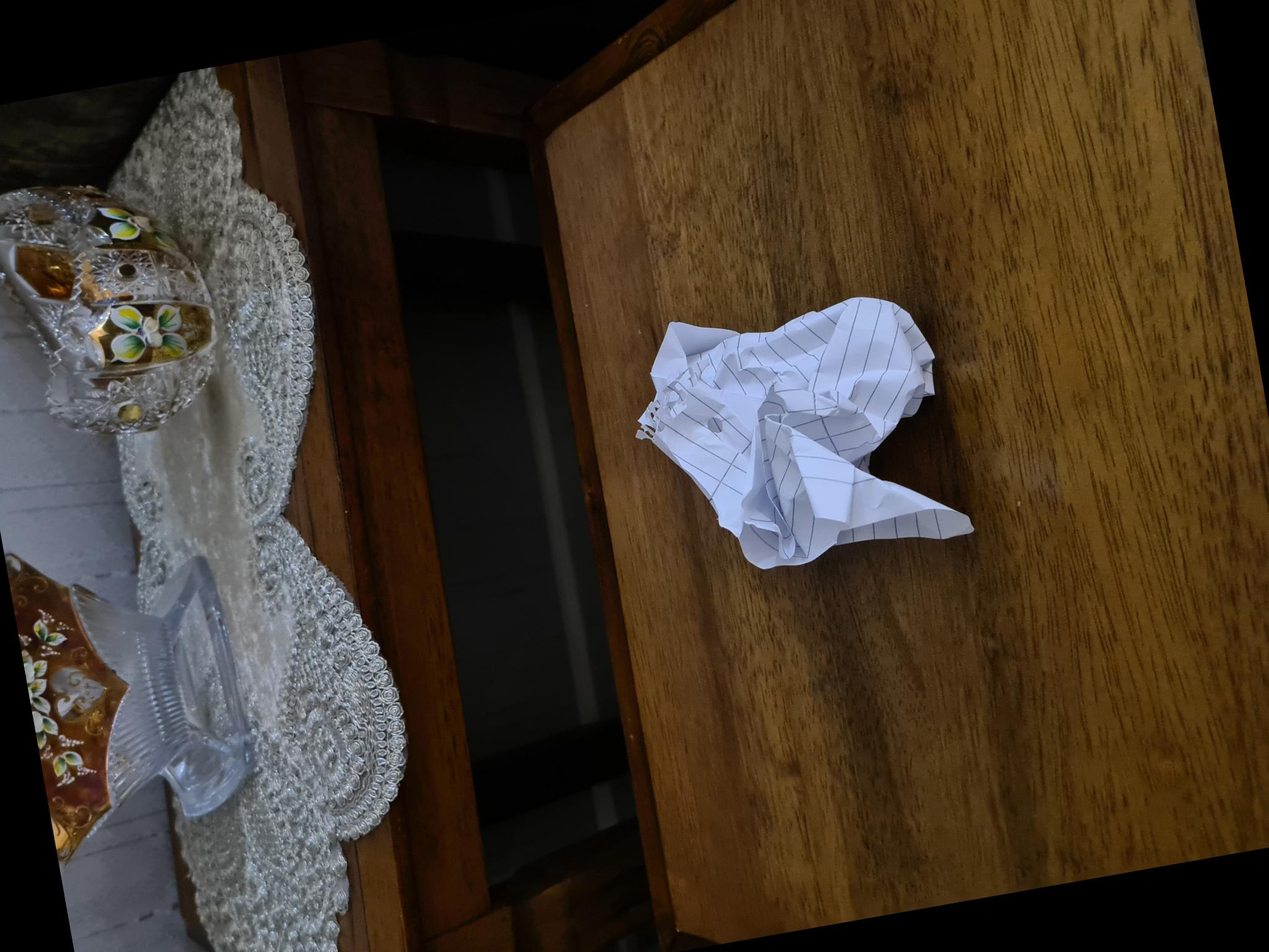Kertas: (386, 674, 708, 952)
